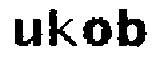b: (114, 4, 150, 48)
k: (47, 6, 78, 49)
o: (83, 15, 114, 47)
u: (10, 17, 44, 48)
